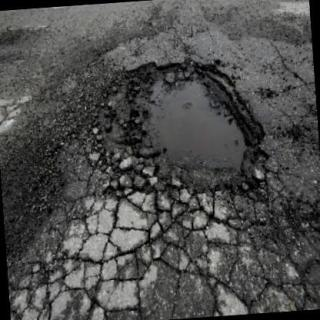pothole: (101, 63, 265, 187)
